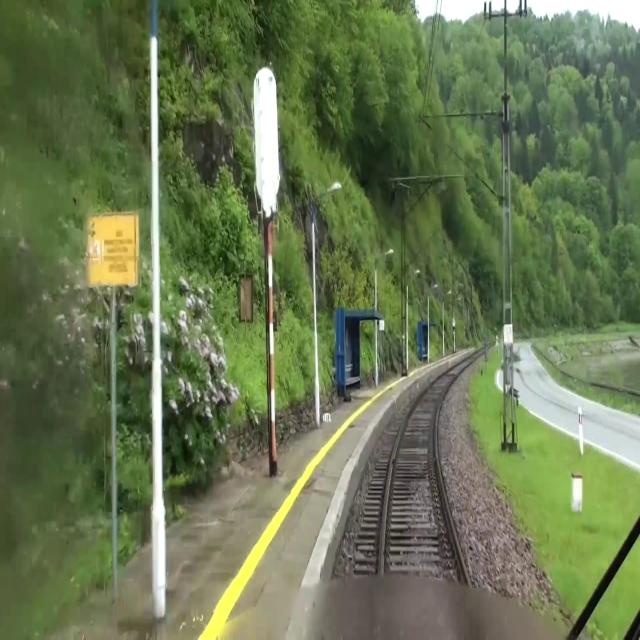rail-track: (381, 359, 482, 639)
